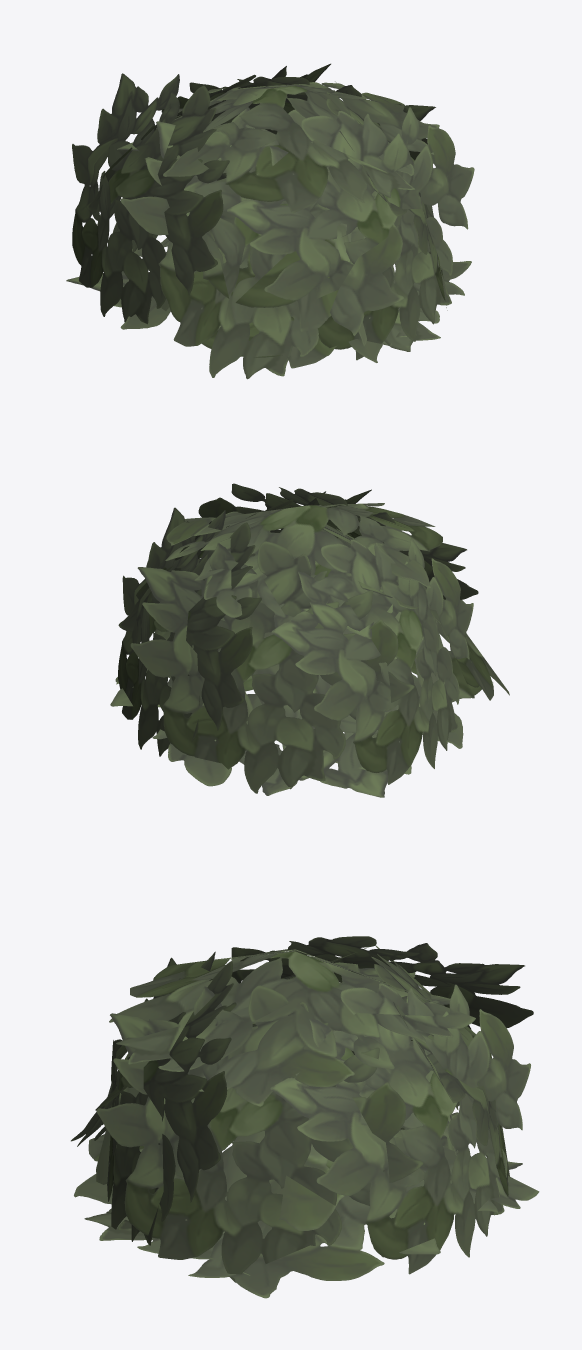
The model's file is RoundBush_2sides.FBX.
The picture shows the model from 3 angles, top to bottom: view 1: azimuth 30°, elevation 25°; view 2: azimuth 150°, elevation 25°; view 3: azimuth 270°, elevation 25°; orthographic projection. The views are drawn at different scales.
Parts seen in each view (by area): view 1: RoundBush_2sides; view 2: RoundBush_2sides; view 3: RoundBush_2sides.
Boxes of the visible parts, x1,y1,x2,y2 form: RoundBush_2sides: (66, 63, 474, 379); RoundBush_2sides: (110, 483, 509, 797); RoundBush_2sides: (71, 936, 539, 1298).
Size of the model in its own units: 20.08 by 22.13 by 14.43.
